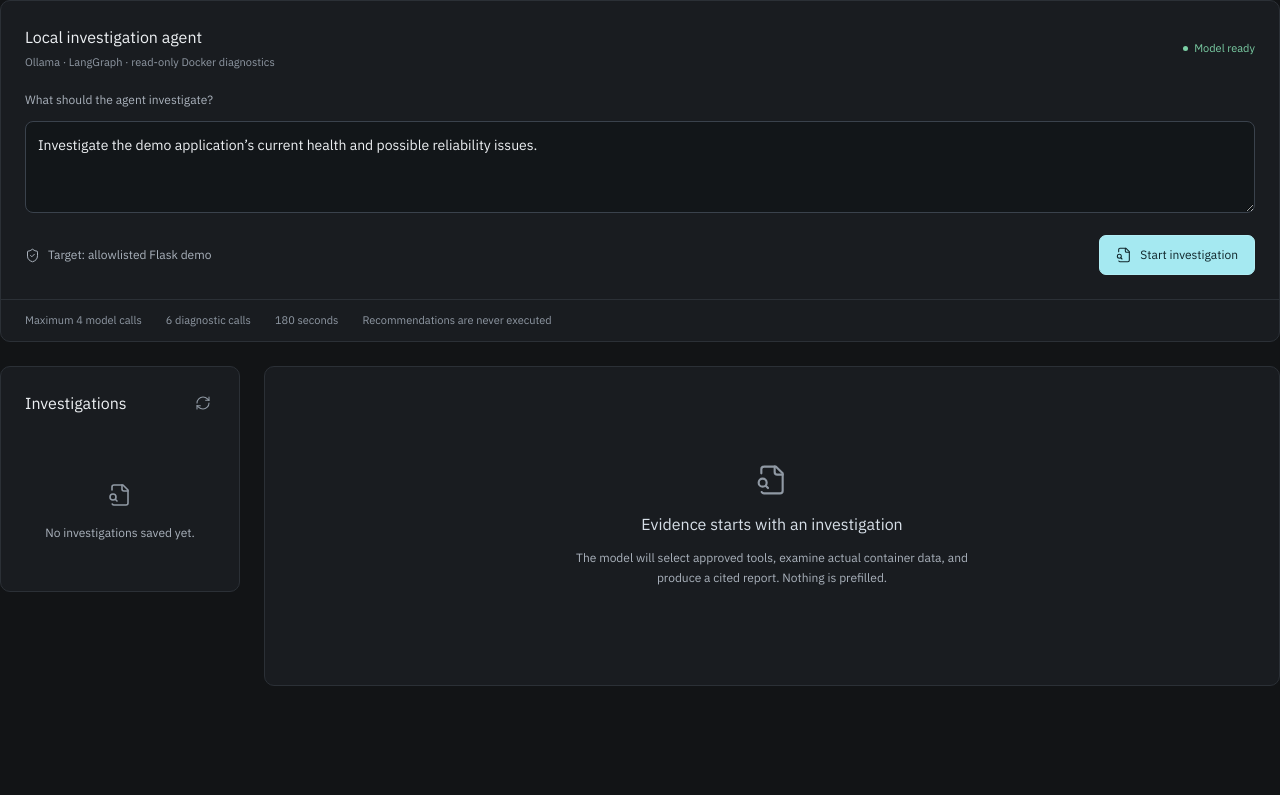
Scenario: recovers the actual active run after a lost creation response and retains the error across polling
Step 1. Click the button "Start investigation" → click(1177, 255), box x1=1099 y1=235 x2=1255 y2=275
Wait 10000 ms
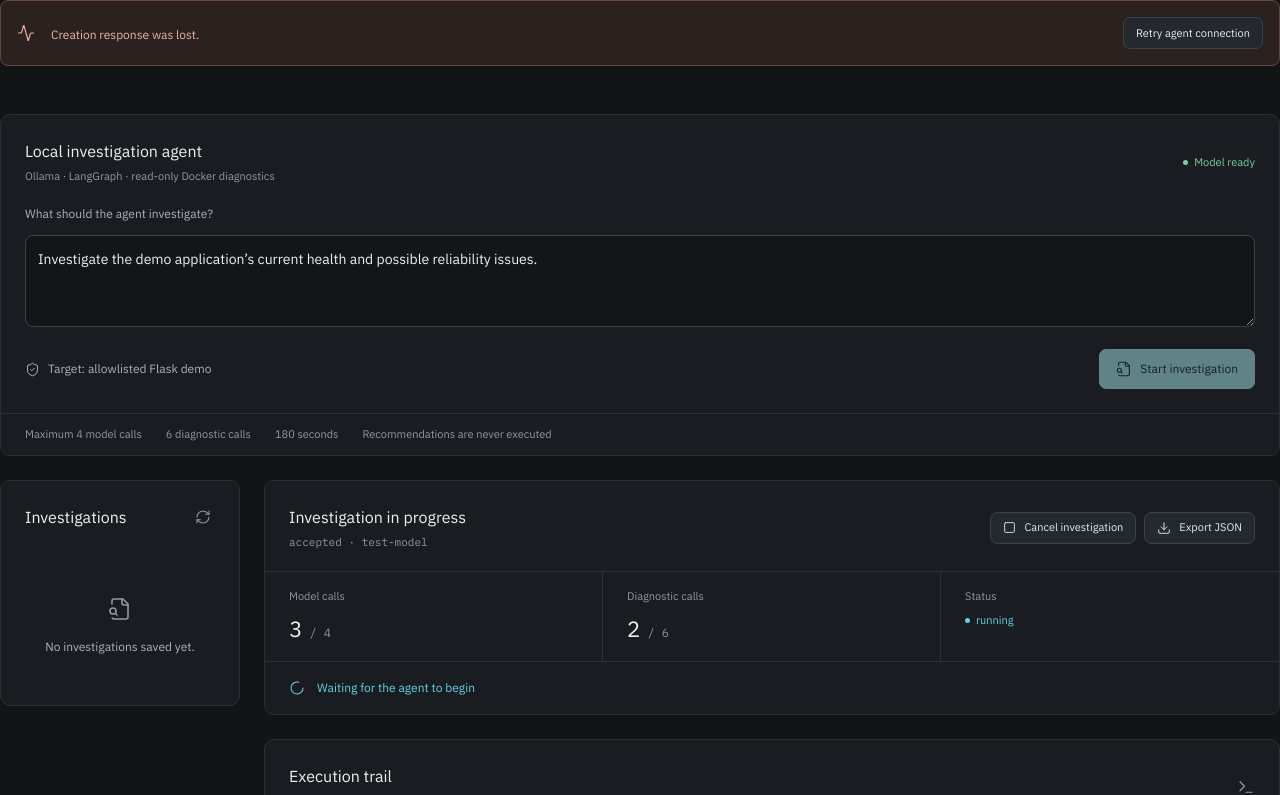
Expected: the heading "Investigation in progress" is shown, x1=289 y1=504 x2=466 y2=528
Expected: the message "Creation response was lost. Retry agent connection" is shown, x1=0 y1=0 x2=1279 y2=66
